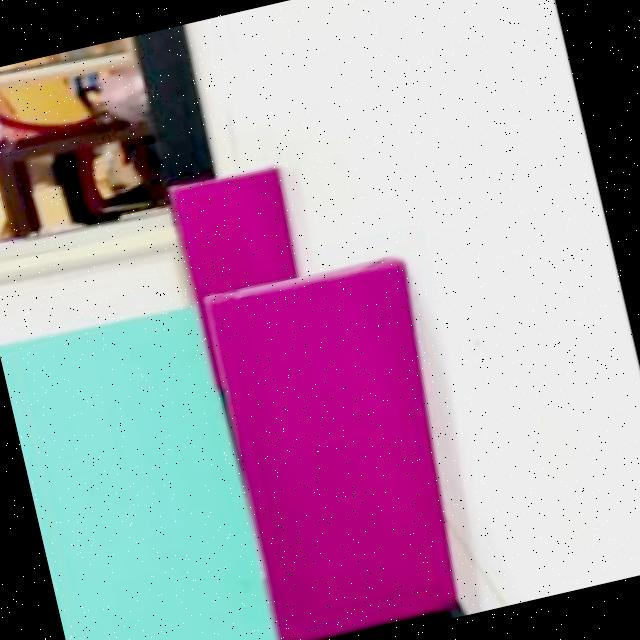xparking: (208, 257, 479, 640), (173, 166, 301, 296)
